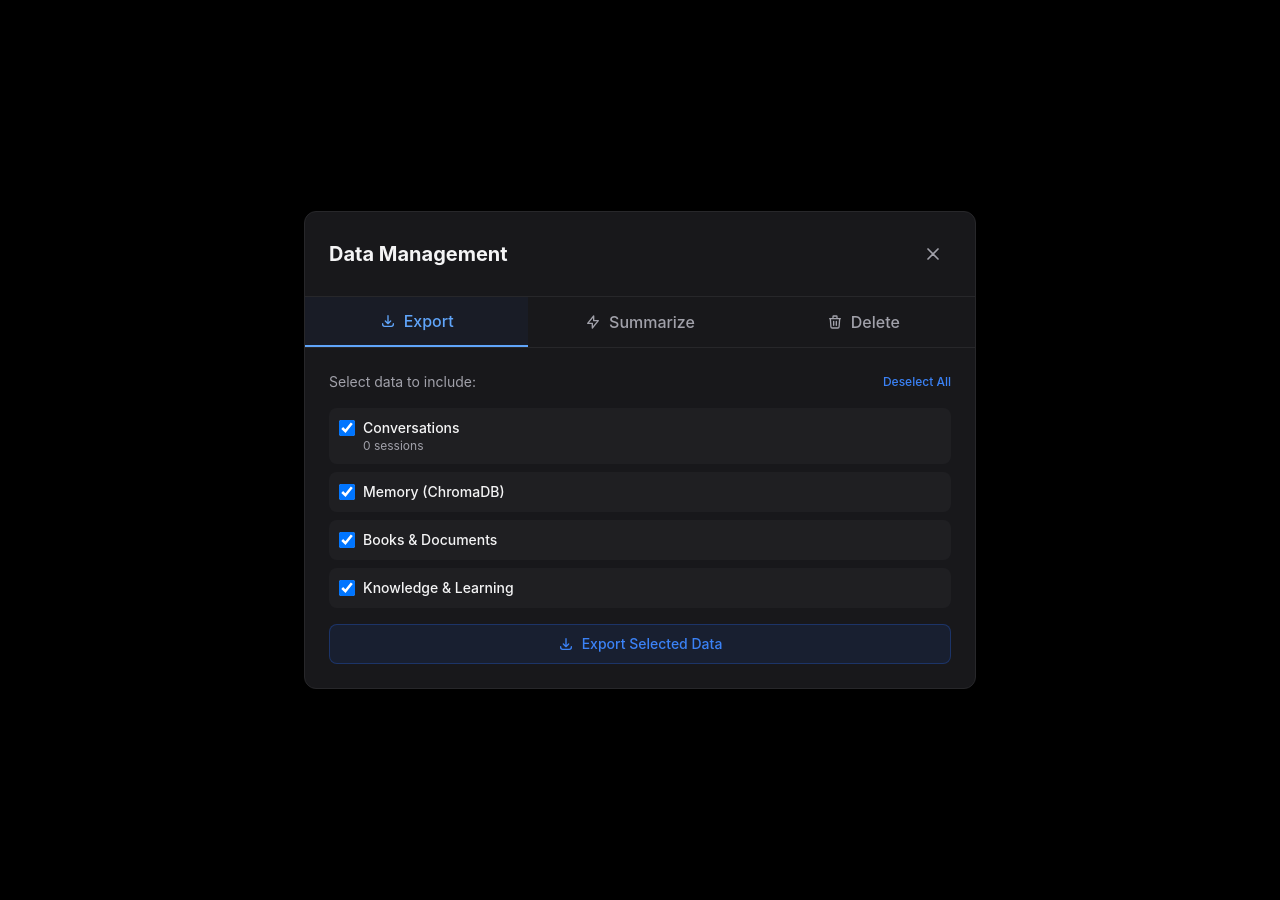
Test case: DataManagementModal › Tab Switching › switches between tabs
Expected: the text "Conversations" is shown, [363, 419, 460, 436]
Note: Switch to delete
Click the button "Delete": point(863, 322) [752, 297, 975, 347]
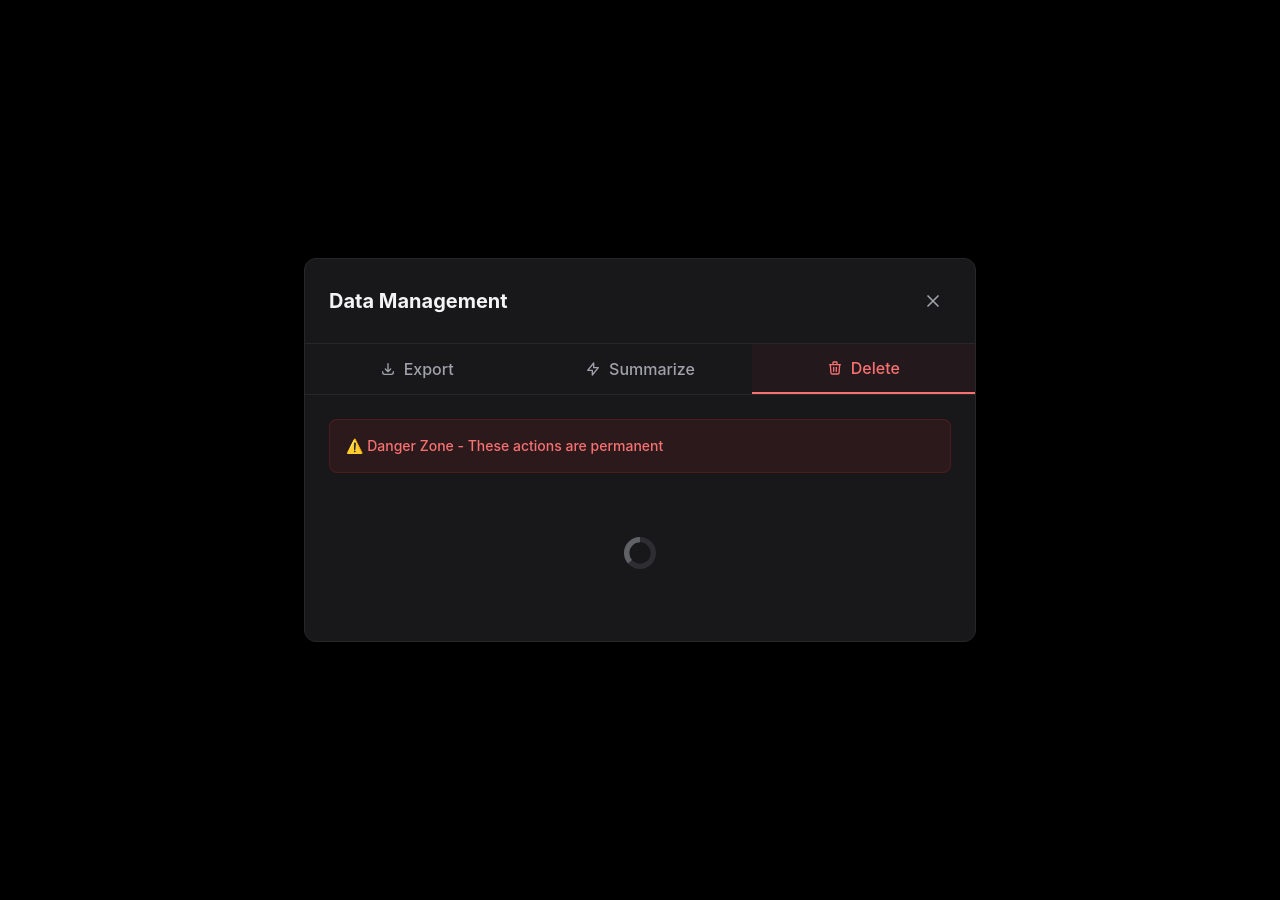
Result: the text "⚠️ Danger Zone - These actions are permanent" is shown at [346, 437, 663, 454]
Note: Switch back to export
Click the button "Export": point(417, 369) [305, 344, 528, 394]
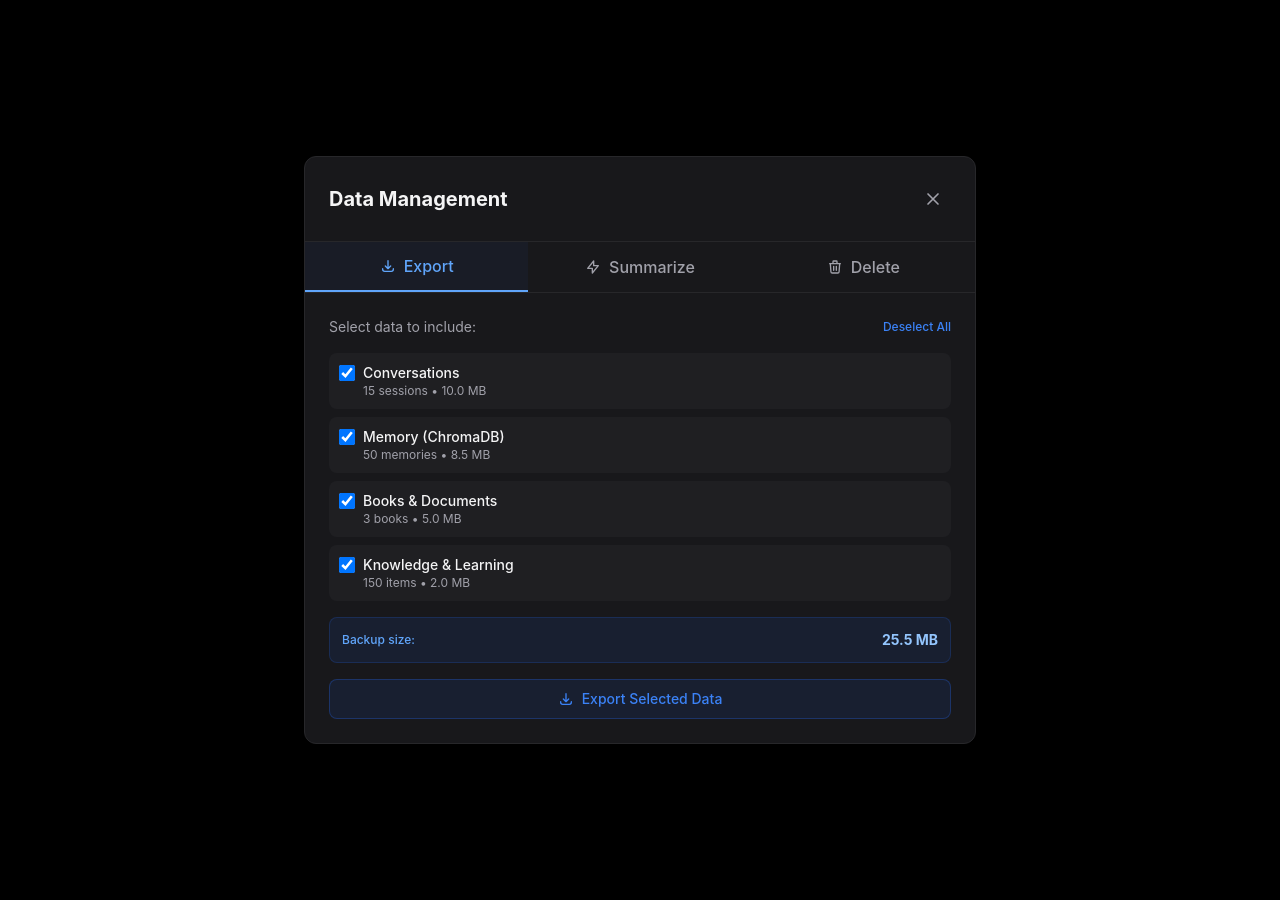
Result: the text "Conversations" is shown at [363, 364, 460, 381]
